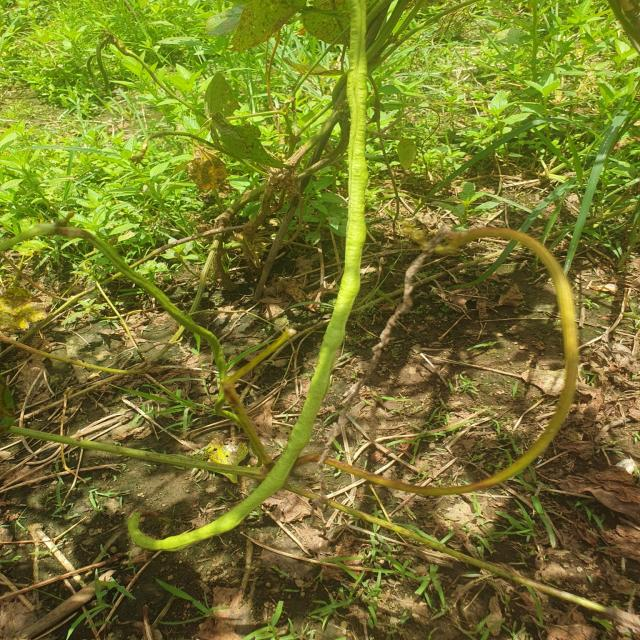10: (128, 0, 368, 550)
sitaw-aphid-moderate: (485, 231, 578, 488)
sitaw-healthy: (55, 221, 273, 471)
sitaw-moderate: (9, 426, 265, 482)
